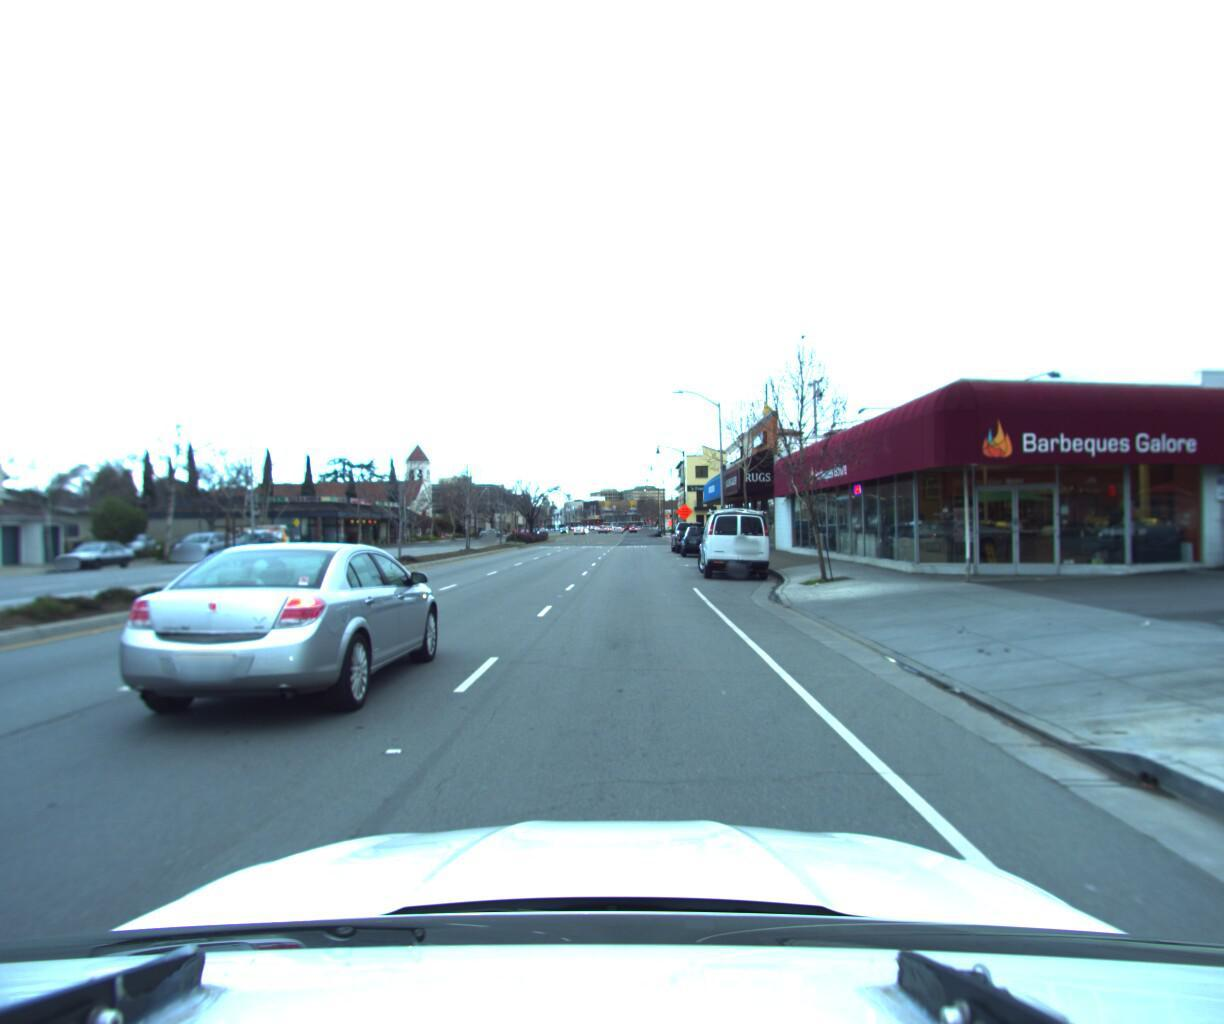car: (87, 538, 450, 741), (695, 502, 774, 580), (45, 538, 142, 574), (167, 530, 243, 563), (216, 522, 293, 553), (224, 529, 281, 558), (678, 520, 715, 553), (114, 533, 160, 559)
truck: (667, 515, 712, 551)
